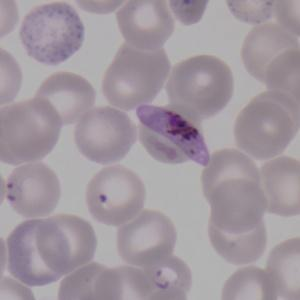Infected: (134, 103, 211, 167), (5, 163, 61, 219), (139, 255, 192, 299)
Uninfected: (165, 52, 233, 119), (75, 105, 139, 166), (84, 165, 147, 226), (3, 97, 63, 161), (37, 213, 99, 274), (200, 150, 266, 203), (236, 101, 292, 161), (116, 0, 177, 53), (117, 210, 177, 263), (101, 59, 160, 109), (36, 72, 96, 121), (210, 215, 267, 266), (212, 180, 267, 231), (260, 156, 300, 215), (271, 237, 300, 300), (223, 267, 276, 300)
